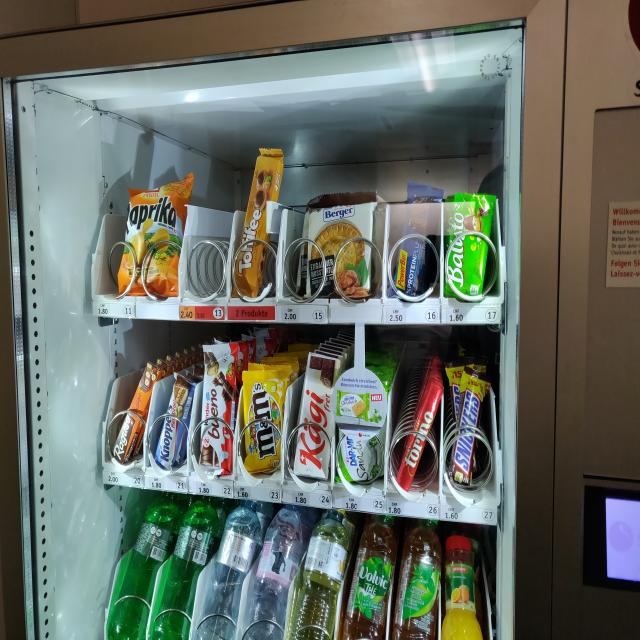balisto_muesli__37g__5000159418546: (444, 191, 489, 294)
berger_nusstoertli____: (306, 202, 371, 299)
bueno___43__4008400320328: (202, 346, 236, 468)
darwida_sandwich____7610032065170: (340, 378, 386, 485)
evian___50__3068320353500: (256, 503, 300, 640)
granini_orange__50__: (444, 537, 487, 640)
kagi___50__7610046000259: (294, 352, 339, 482)
knoppers_riegel____4035800488808: (156, 375, 192, 466)
mnms_gelb__45__40111445: (242, 370, 286, 470)
powerbar_proteinplusschoko__55__4029679520028: (390, 183, 444, 295)
ragusa___50__76401121: (113, 362, 155, 458)
snickers___50__5000159461122: (448, 372, 488, 486)
toffifee___33__4014400924275: (237, 142, 282, 290)
torino___46__76415272: (396, 379, 442, 489)
valser_classic__50__76404160: (116, 494, 174, 636), (165, 496, 220, 639)
valser_still__50__7610335002575: (217, 503, 259, 640)
valser_vivabirne__50__7610335001530: (297, 508, 348, 640)
volvic_teeminze__50__3057640335648: (347, 515, 393, 640), (398, 514, 441, 633)
zweifel_paprika__90__7610095013002: (111, 178, 190, 294)
